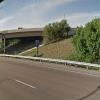Bridge: (5, 20, 44, 54)
